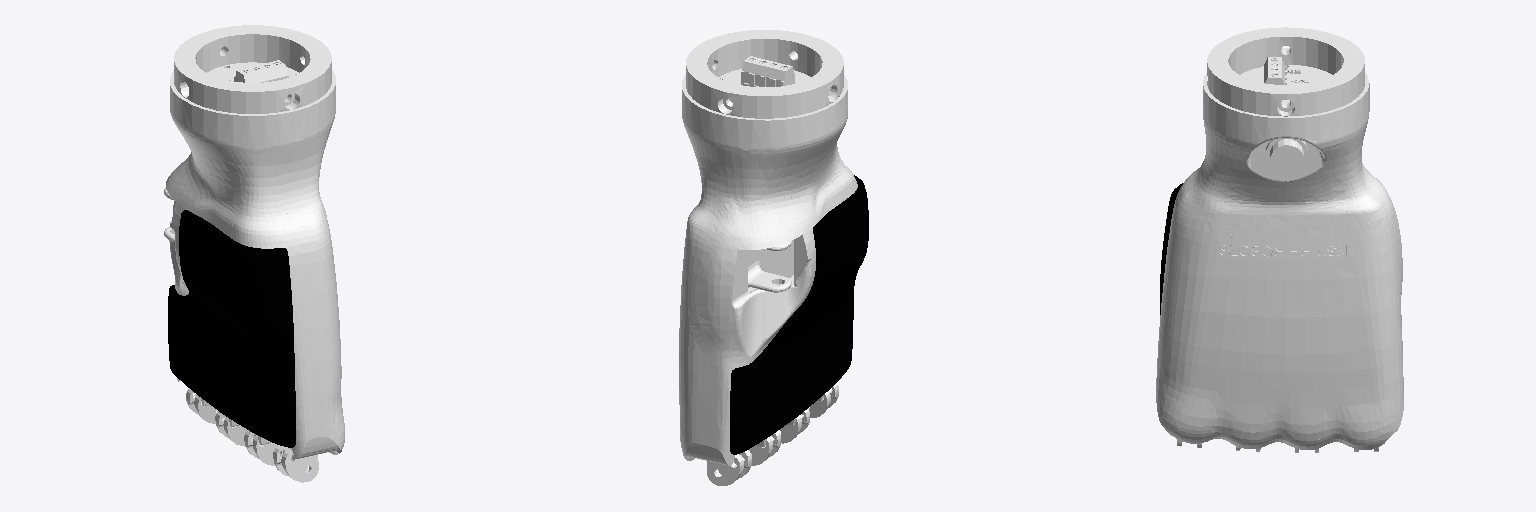
File: R_hand_base_link.obj
3 renders of one model, left to right at view 1: azimuth 30°, elevation 25°; view 2: azimuth 150°, elevation 25°; view 3: azimuth 270°, elevation 25°, orthographic.
Visible parts, largest first — view 1: R_hand_base_link; view 2: R_hand_base_link; view 3: R_hand_base_link.
Boxes of the visible parts, box(x1,y1,x2,y2) form: R_hand_base_link: box(164, 25, 344, 482); R_hand_base_link: box(679, 30, 868, 485); R_hand_base_link: box(1156, 27, 1403, 452).
Bounding box in the file's own units: 0.0548 × 0.1416 × 0.0815.